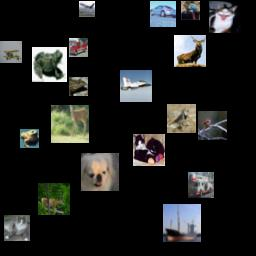airplane: (120, 70, 152, 102), (0, 41, 22, 63), (79, 1, 95, 17)
automobile: (150, 1, 176, 27)
bird: (198, 111, 227, 140), (167, 104, 196, 133), (181, 1, 200, 20)
cat: (133, 134, 165, 166), (209, 1, 241, 33), (4, 215, 30, 241)
deer: (51, 105, 89, 143), (174, 35, 206, 67), (38, 183, 70, 215)
dog: (81, 153, 119, 191)
frog: (32, 47, 67, 82), (69, 77, 88, 96), (20, 129, 39, 148)
ship: (163, 204, 201, 242)
truck: (188, 172, 214, 198), (69, 38, 88, 57)
